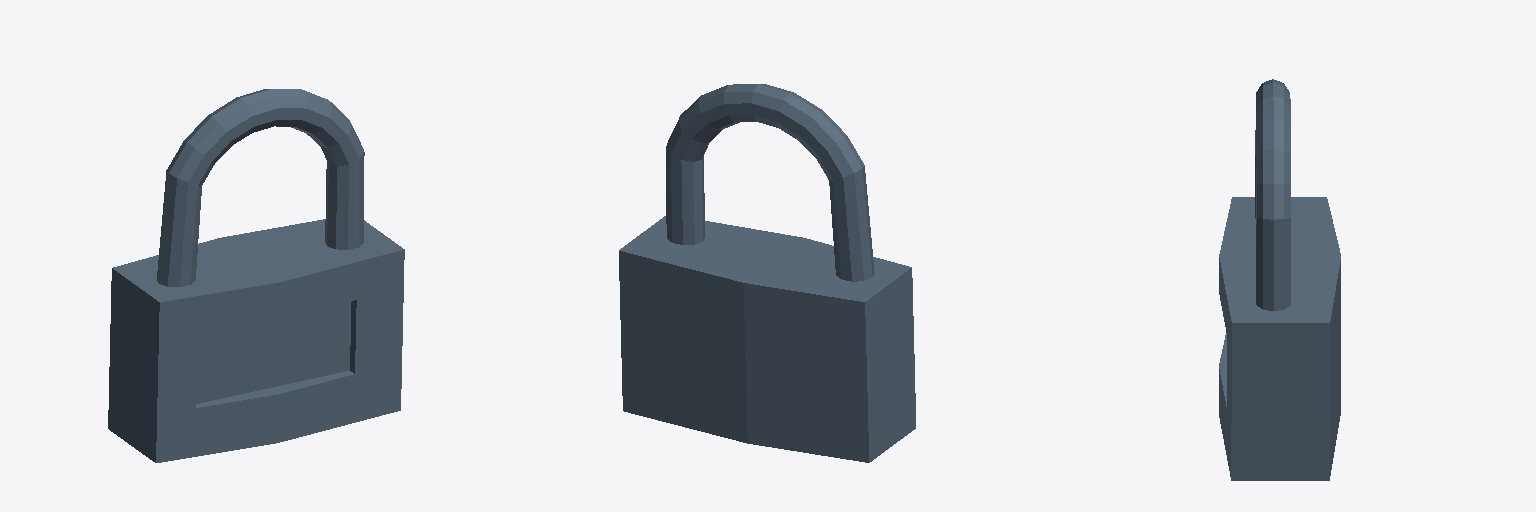
Rendered from lock.obj.
3 views of the same model, side by side, from view 1: azimuth 30°, elevation 25°; view 2: azimuth 150°, elevation 25°; view 3: azimuth 270°, elevation 25° (orthographic).
Parts seen in each view (by area): view 1: Box2, Torus; view 2: Box2, Torus; view 3: Box2, Torus.
Part boxes in pixels (x1,y1,x2,y2): Box2: (108,219,404,462); Torus: (157,89,364,286); Box2: (619,216,915,462); Torus: (666,84,874,281); Box2: (1219,197,1340,480); Torus: (1255,79,1290,310).
Bounding box in the file's own units: 84.84 × 108 × 36.14.